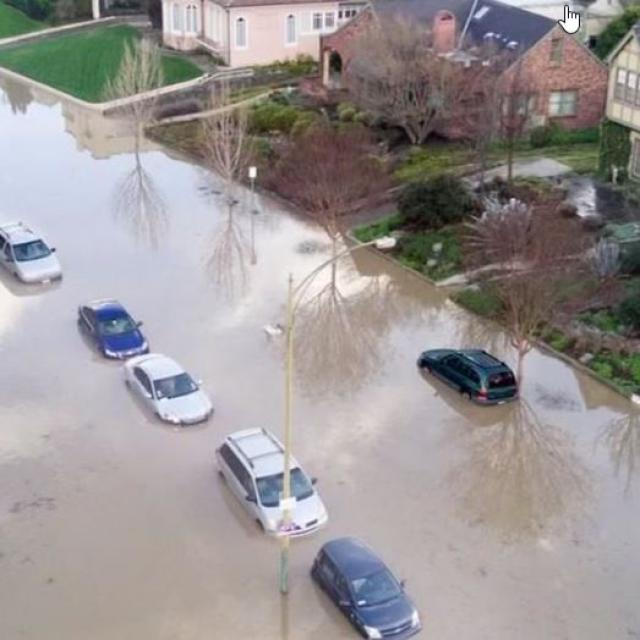flooded_areas: (1, 81, 573, 638)
